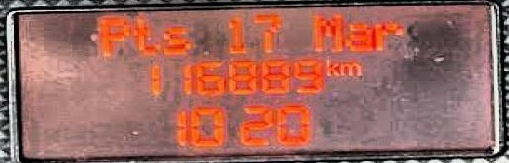0: (274, 103, 310, 146), (189, 105, 224, 148)
1: (225, 12, 245, 54), (145, 61, 162, 96), (172, 106, 185, 147), (179, 61, 190, 96)
2: (238, 103, 272, 146)
6: (194, 59, 224, 97)
7: (250, 12, 287, 53)
8: (259, 57, 289, 94), (225, 58, 255, 94)
9: (292, 57, 322, 94)
X: (310, 9, 342, 53), (129, 14, 160, 57), (97, 16, 127, 57), (162, 23, 192, 54), (375, 20, 404, 51), (345, 21, 372, 52), (339, 61, 360, 76), (323, 58, 337, 75)
